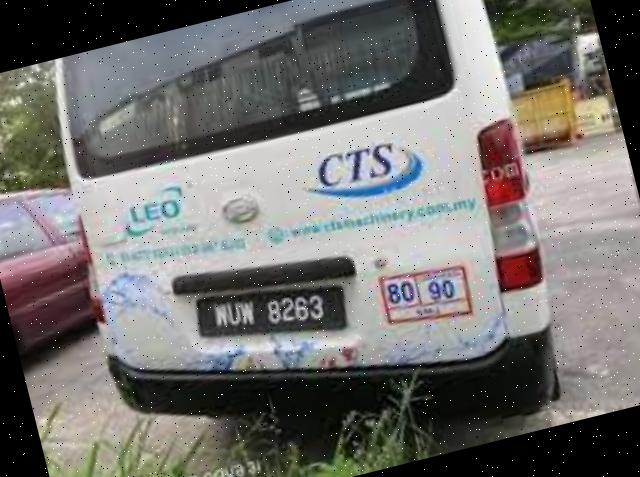License_Plate: (190, 258, 369, 355)
van: (31, 1, 582, 477)
